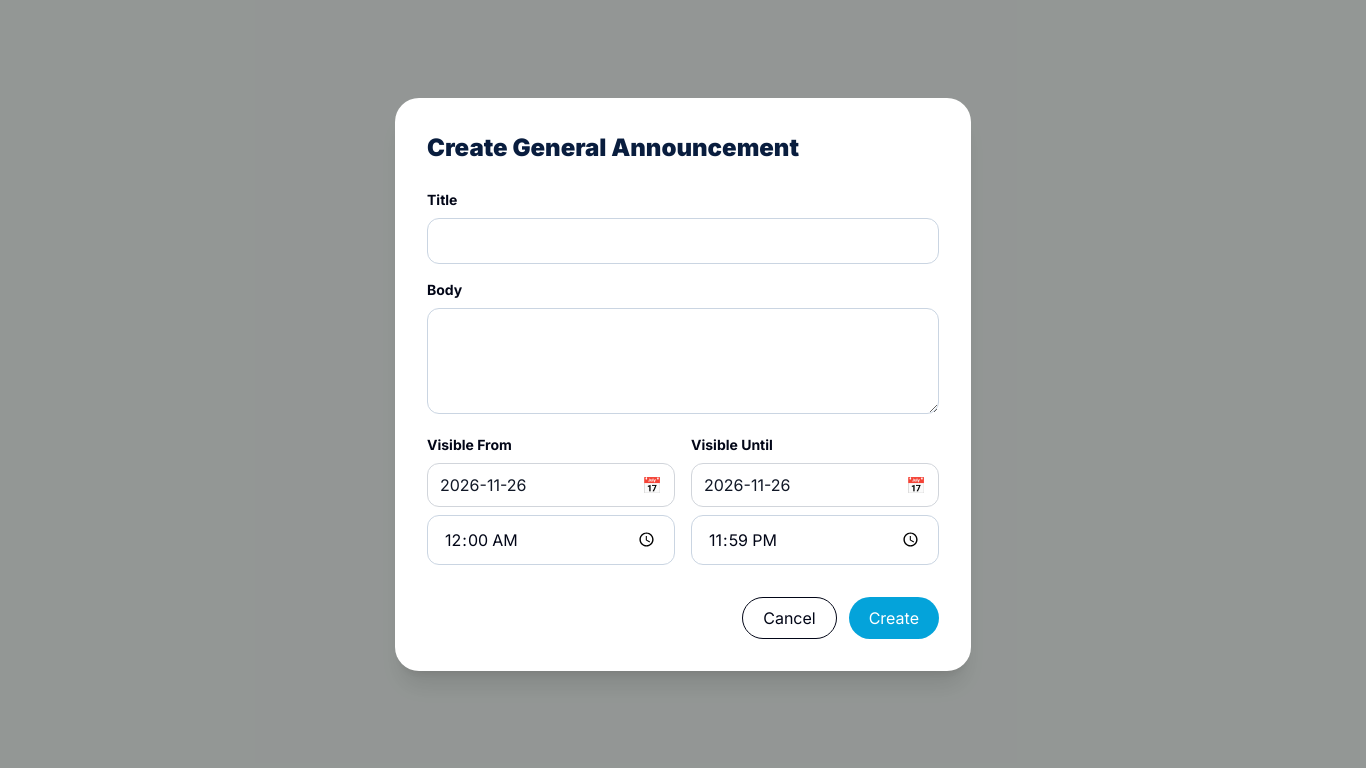
Test: AnnouncementFormModal › validates required fields and invalid visibility windows
Submit the dialog, box [395,98,971,670]
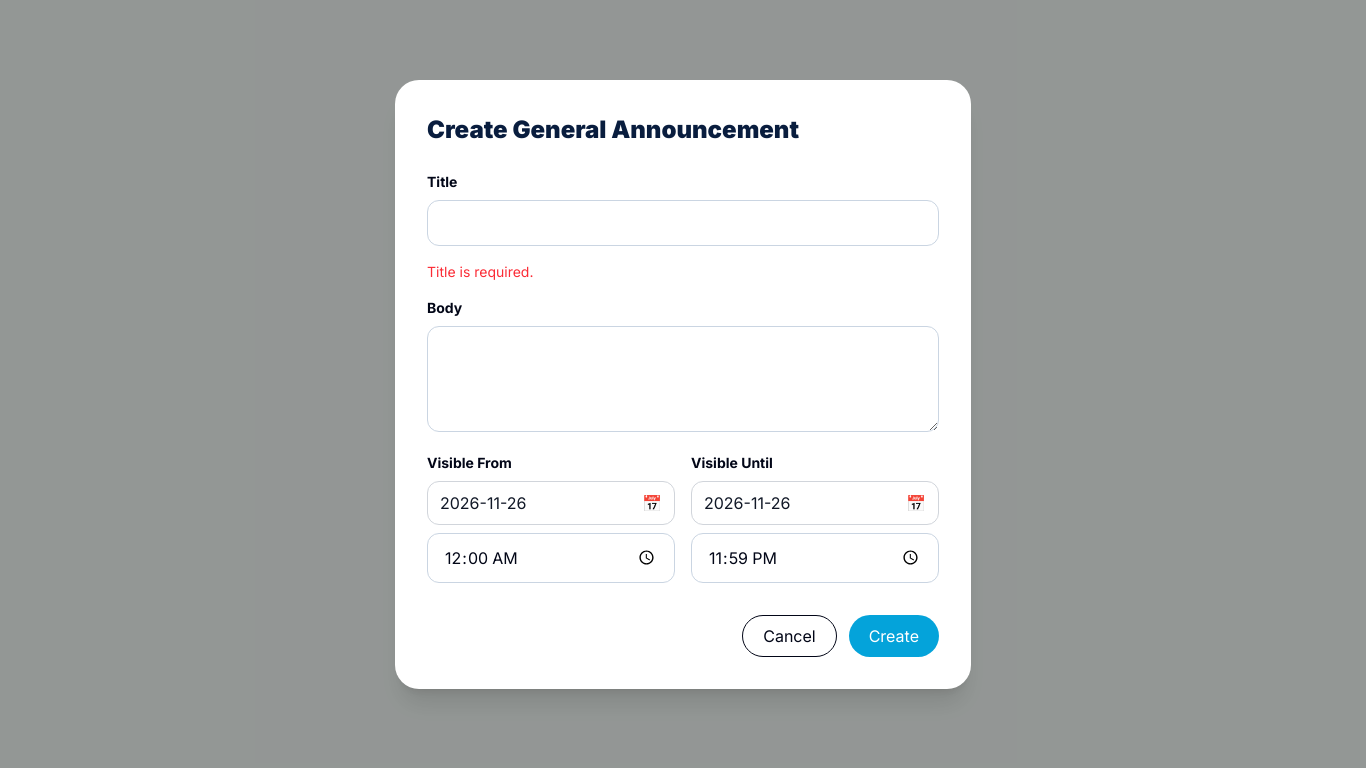
Expected: the text "Title is required." is shown, [427,262,534,280]
Type "Title" into the field labelled "Title" at (683, 222), box [427,200,939,246]
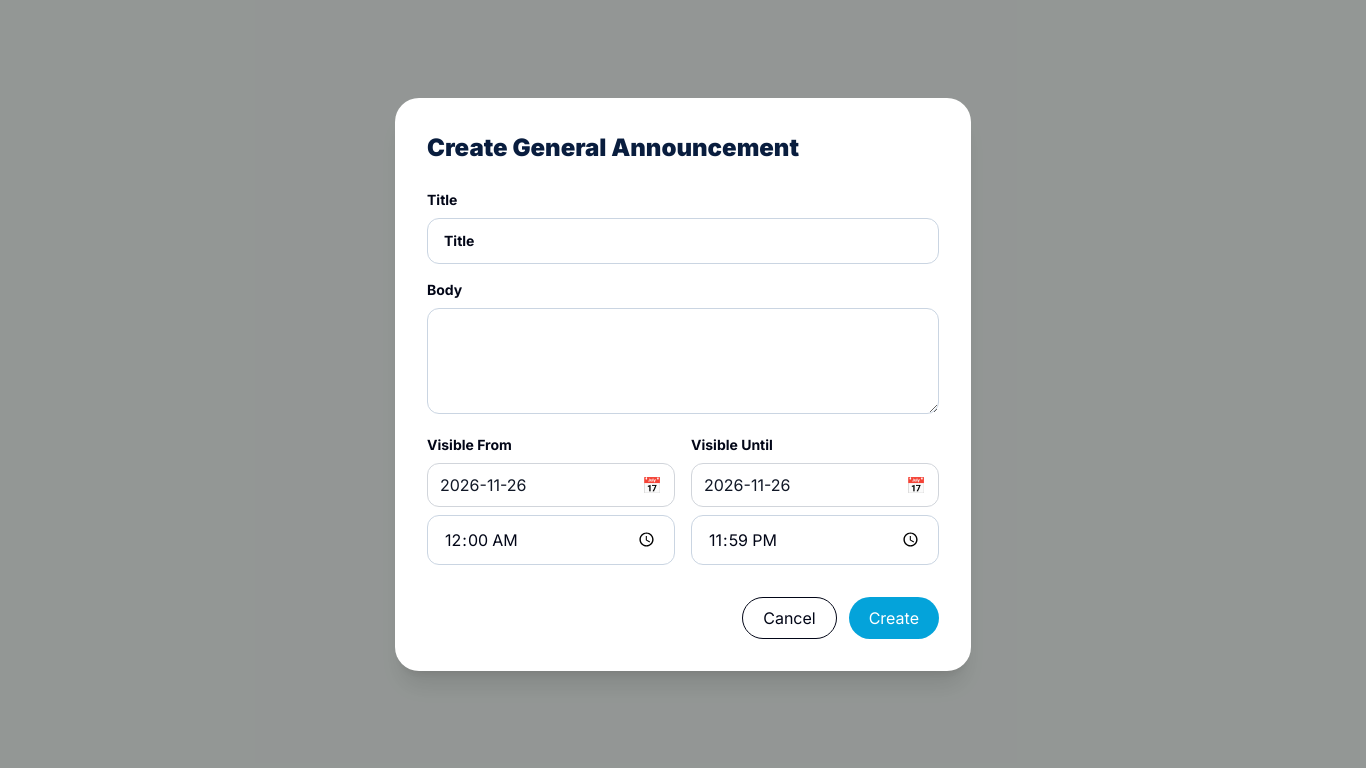
Replace the text in the time field named "Visible From time" with "10:30" at (551, 540), box [427,514,675,564]
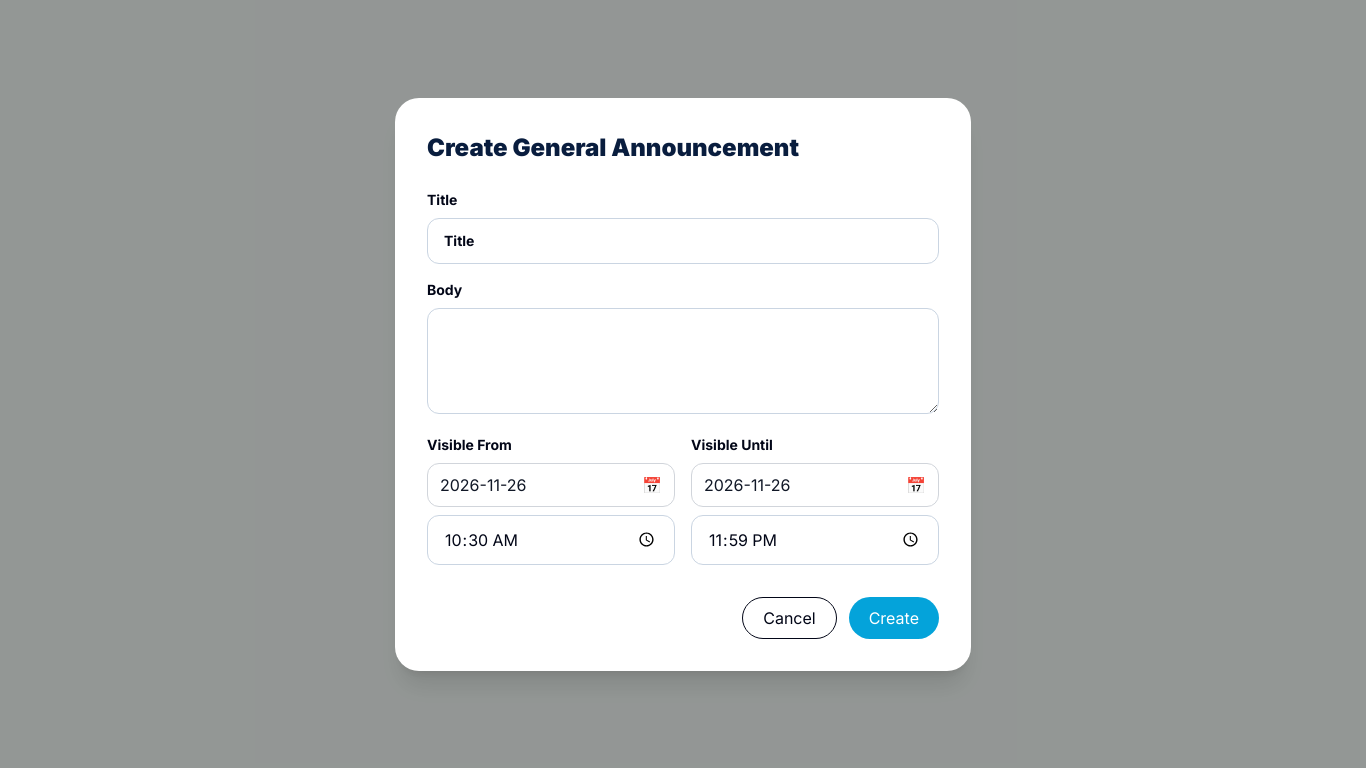
Replace the text in the time field named "Visible Until time" with "09:00" at (815, 540), box [691,514,939,564]
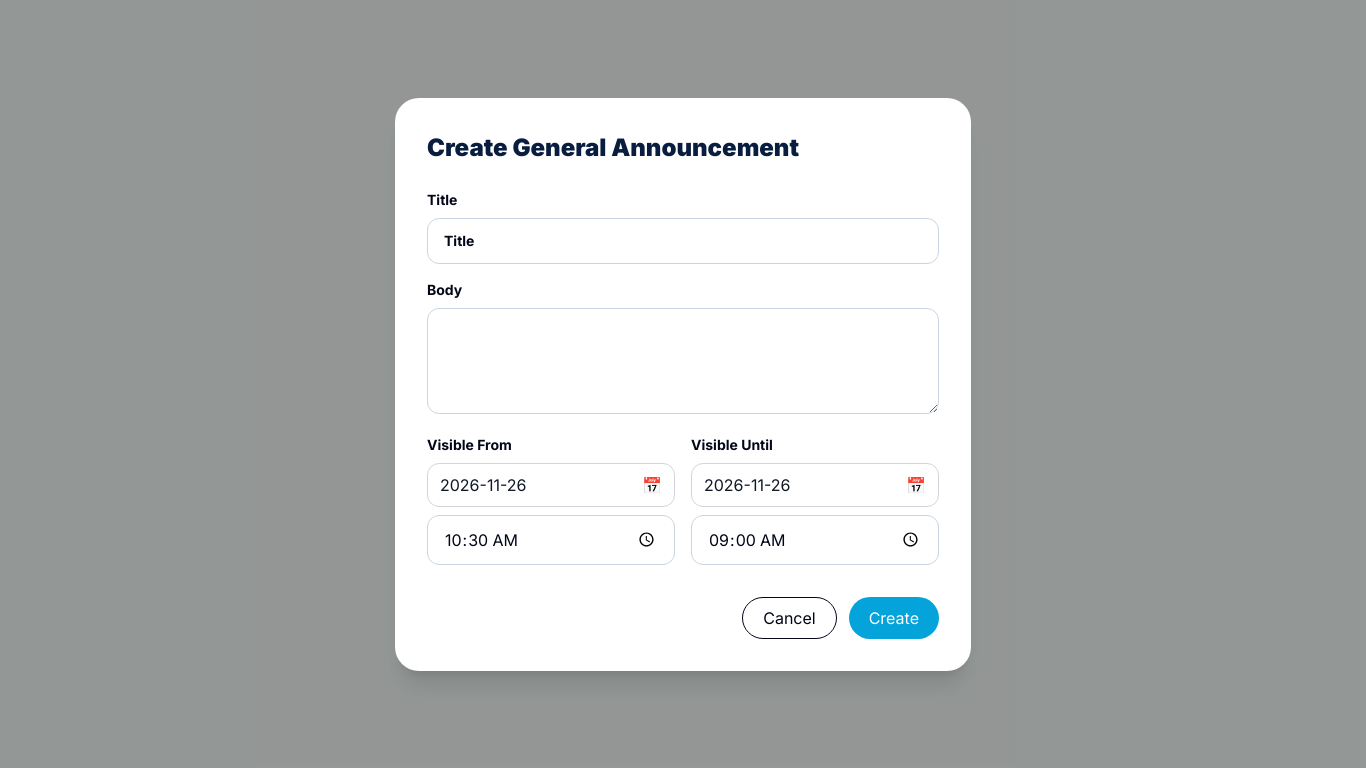
Submit the dialog, box [395,98,971,670]
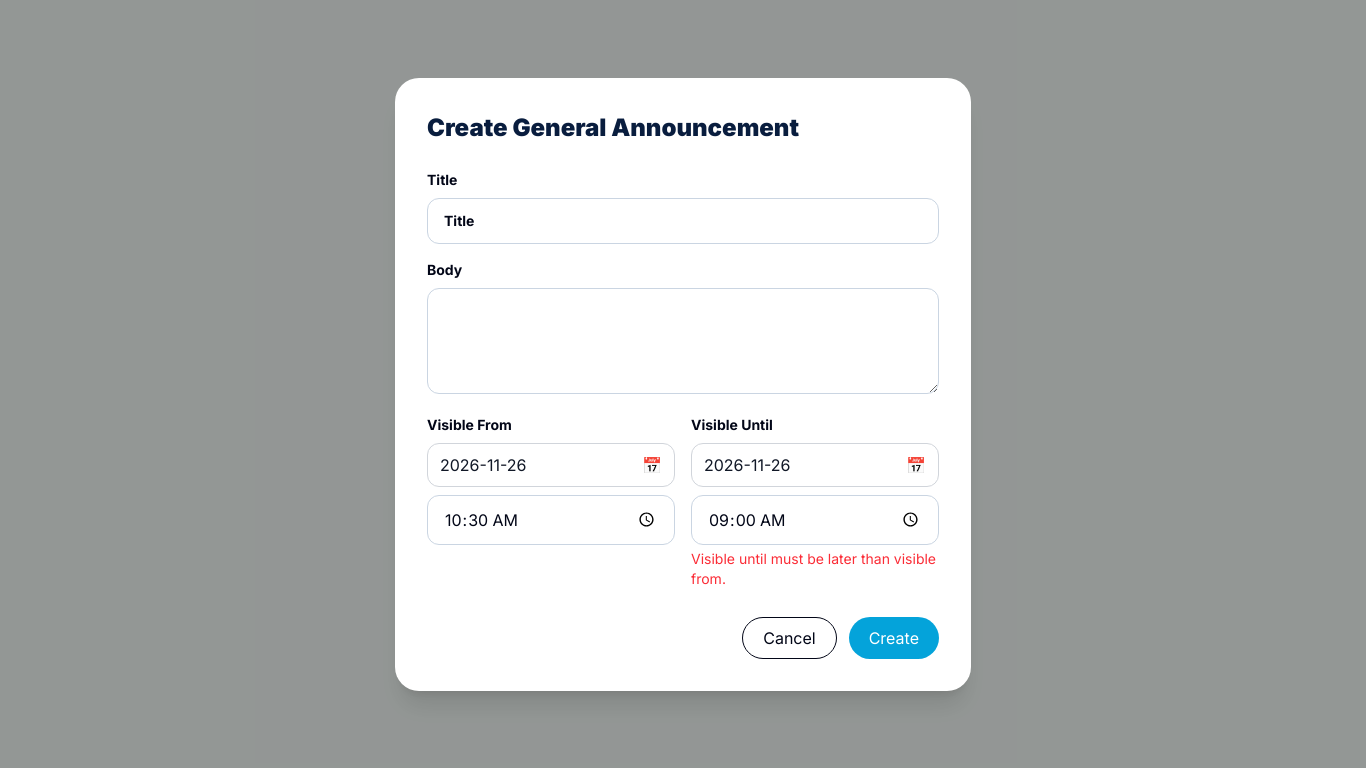
Expected: the text "Visible until must be later than visible from." is shown, [691,550,936,586]
